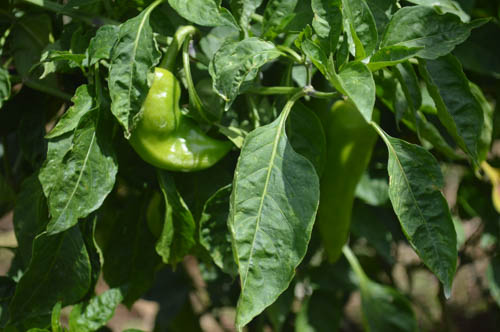ChiliPepper: (301, 99, 379, 261), (128, 68, 234, 172)
